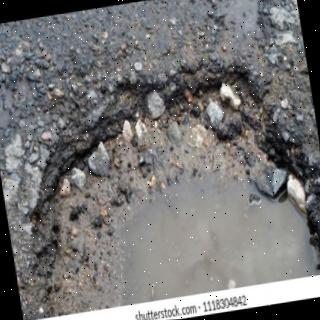pothole: (30, 61, 320, 314)
